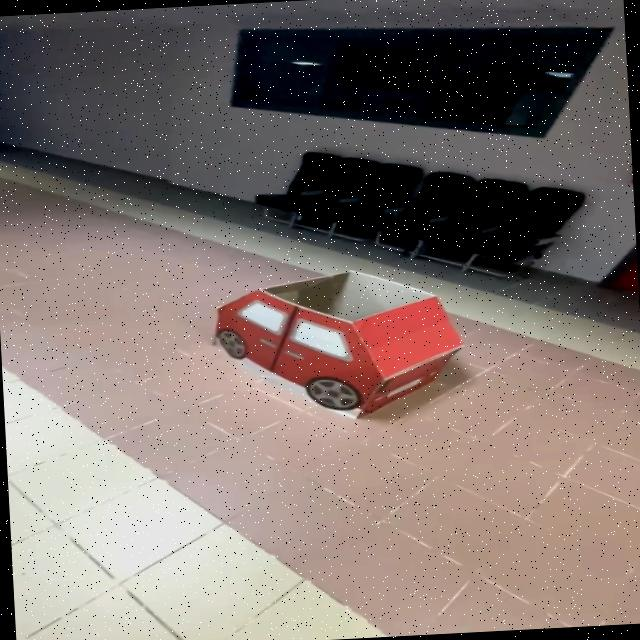red_car: (154, 248, 511, 453)
